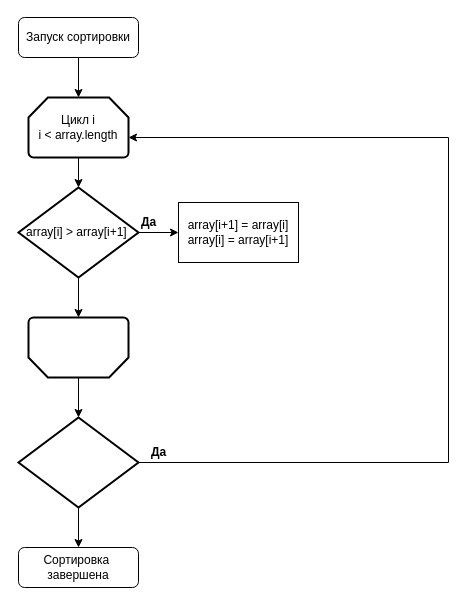
The diagram is 474 pixels wide and 605 high, and some of its shapes have lost their labels. The centre of each missing label's shape, as x and y in pixels:
"i++ Цикл i" goes at (x=78, y=347).
"Перестановки были?" goes at (x=78, y=462).
